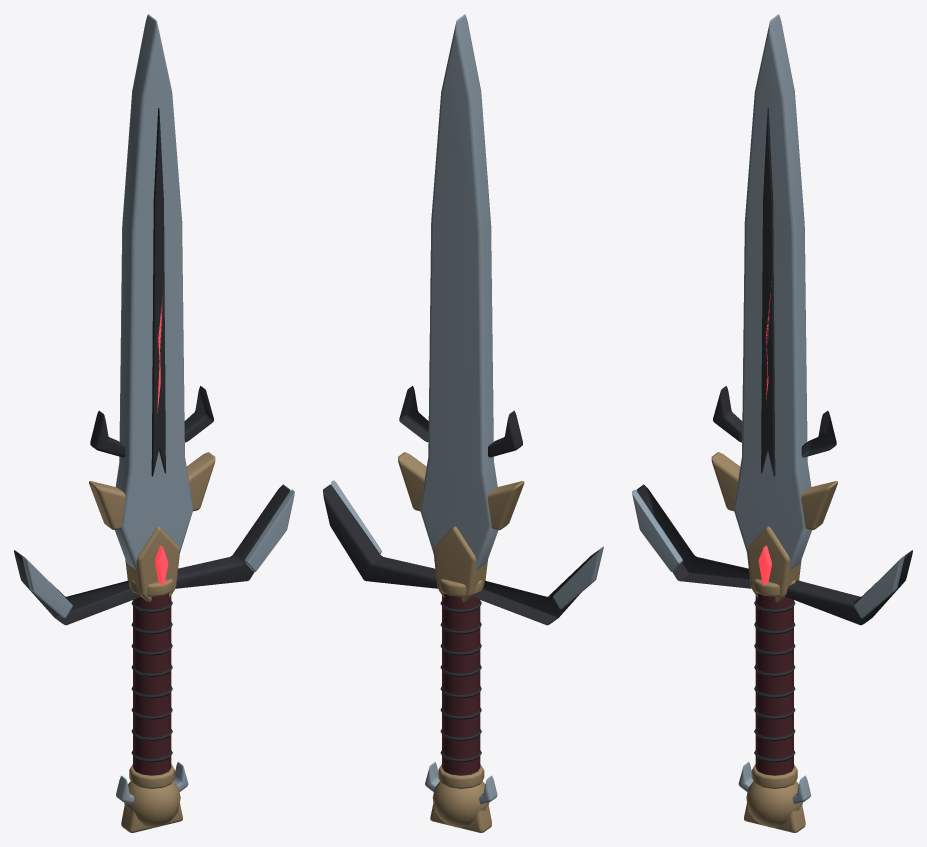
Rendered from oathbreaker.glb.
The picture shows the model from 3 angles, left to right: view 1: azimuth 30°, elevation 25°; view 2: azimuth 150°, elevation 25°; view 3: azimuth 330°, elevation 25°; orthographic projection.
Visible parts, largest first — view 1: Spire forged blade.001, Leather grip.001, Recessed angular fuller.001, Cathedral swept quillon.003, Ricasso wings, Cathedral swept quillon.002, Gothic guard shield.001, Pommel.001, Silver quillon edge.003, Silver quillon edge.002, Forged hooked thorn.005, Forged hooked thorn.004 (+2 smaller); view 2: Spire forged blade.001, Leather grip.001, Cathedral swept quillon.003, Cathedral swept quillon.002, Gothic guard shield.001, Ricasso wings, Pommel.001, Silver quillon edge.002, Forged hooked thorn.005, Forged hooked thorn.004, Grip collar.002, Pointed reliquary crest.001; view 3: Spire forged blade.001, Leather grip.001, Recessed angular fuller.001, Cathedral swept quillon.002, Cathedral swept quillon.003, Ricasso wings, Gothic guard shield.001, Pommel.001, Silver quillon edge.002, Silver quillon edge.003, Forged hooked thorn.004, Forged hooked thorn.005 (+2 smaller).
Part boxes in pixels (x1,y1,x2,y2): Spire forged blade.001: (115, 14, 193, 569); Leather grip.001: (133, 593, 171, 775); Recessed angular fuller.001: (151, 108, 165, 476); Cathedral swept quillon.003: (175, 484, 290, 588); Ricasso wings: (89, 452, 215, 529); Cathedral swept quillon.002: (14, 550, 141, 625); Gothic guard shield.001: (125, 526, 179, 602); Pommel.001: (124, 781, 180, 827); Silver quillon edge.003: (244, 489, 294, 571); Silver quillon edge.002: (22, 555, 72, 618); Forged hooked thorn.005: (184, 386, 213, 442); Forged hooked thorn.004: (90, 410, 125, 457); Spire forged blade.001: (420, 14, 498, 569); Leather grip.001: (442, 593, 480, 775); Cathedral swept quillon.003: (323, 484, 437, 588); Cathedral swept quillon.002: (472, 550, 599, 625); Gothic guard shield.001: (433, 526, 487, 602); Ricasso wings: (398, 452, 524, 530); Pommel.001: (432, 781, 489, 827); Silver quillon edge.002: (553, 546, 603, 608); Forged hooked thorn.005: (399, 386, 428, 442); Forged hooked thorn.004: (488, 410, 522, 457); Grip collar.002: (438, 764, 484, 788); Pointed reliquary crest.001: (430, 803, 491, 832); Spire forged blade.001: (733, 14, 811, 569); Leather grip.001: (755, 593, 793, 775); Recessed angular fuller.001: (761, 108, 775, 476); Cathedral swept quillon.002: (636, 484, 751, 588); Cathedral swept quillon.003: (785, 550, 912, 625); Ricasso wings: (711, 452, 837, 530); Gothic guard shield.001: (747, 526, 801, 602); Pommel.001: (746, 781, 802, 827); Silver quillon edge.002: (632, 489, 682, 571); Silver quillon edge.003: (854, 555, 904, 618); Forged hooked thorn.004: (713, 386, 742, 442); Forged hooked thorn.005: (801, 410, 836, 457).
Bounding box in the file's own units: 0.6184 × 1.77 × 0.114.
